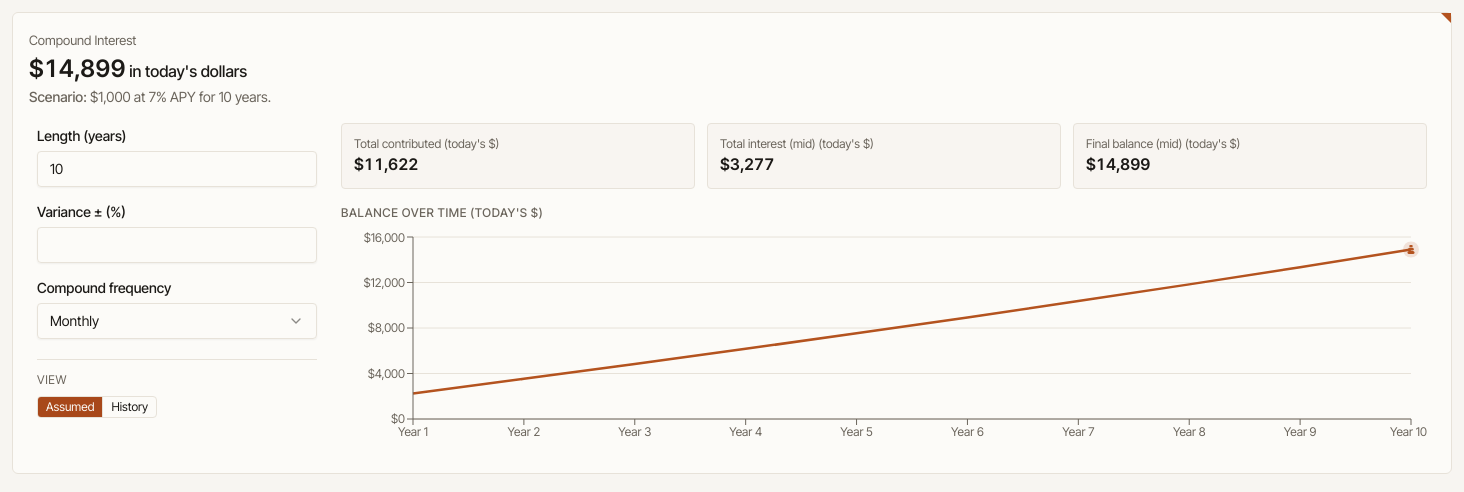
Scenario: CompoundInterestCard — History view › degradation CH-6: years=155 ⇒ the no-stretch line
This screenshot has width=1464, height=492.
Replace the text in the number field labelled "Length (years)" with "155". click: x=177, y=168
box: [37, 150, 317, 186]
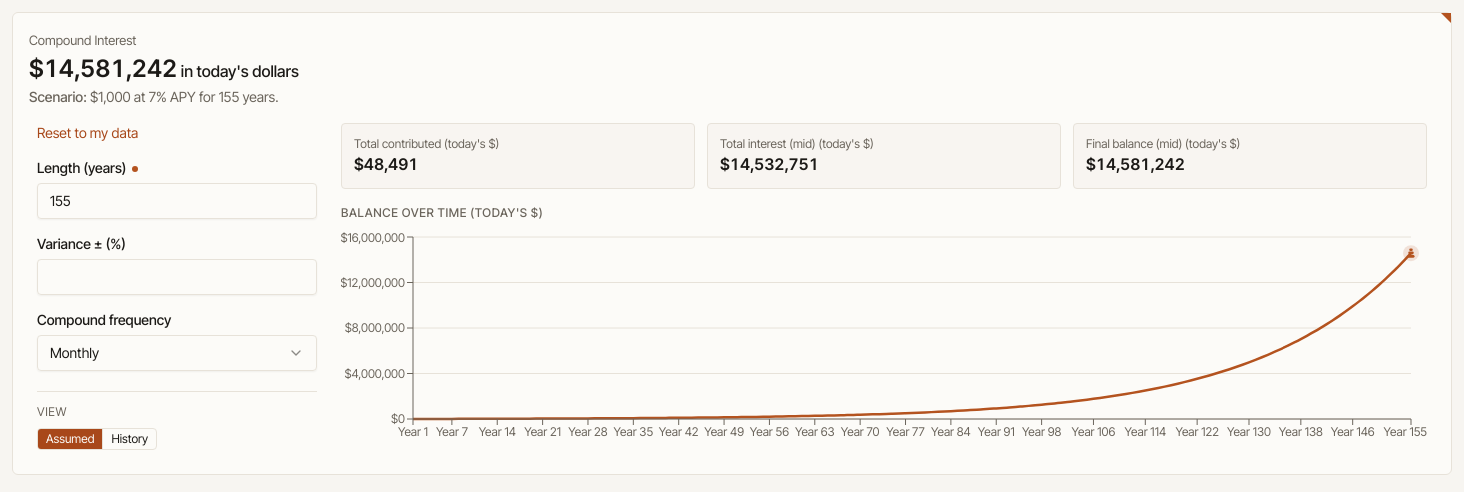
Click the button "History". click: x=129, y=438
box: [102, 428, 156, 448]
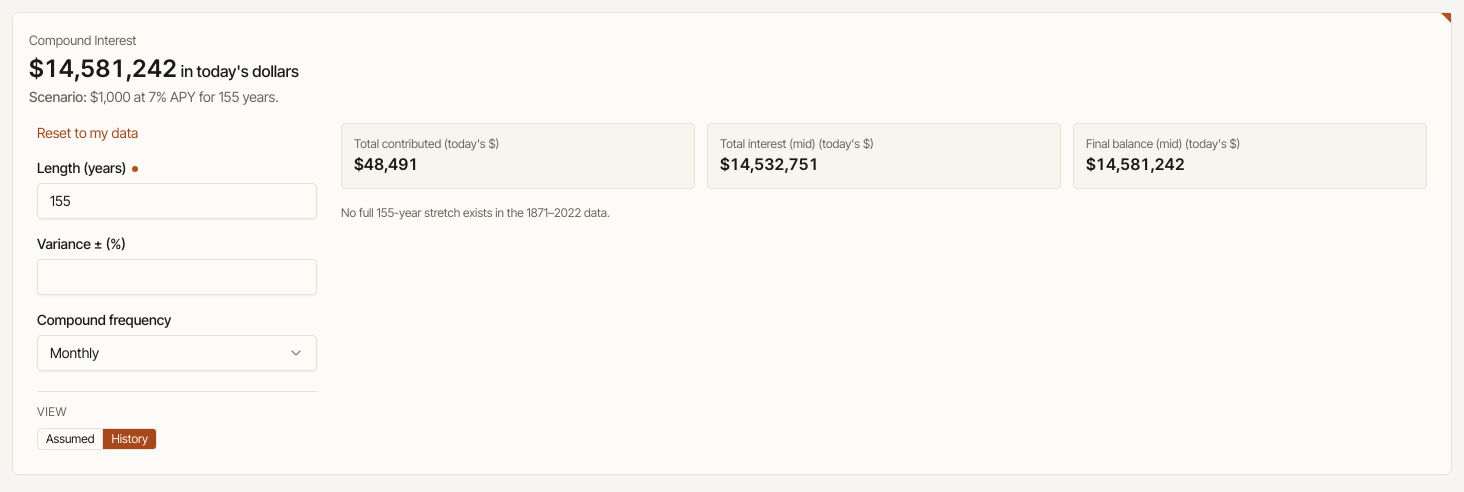
Check: the text with test id "compound-history-degraded" reads "No full 155-year stretch exists in the 1871–2022 data.", box [341, 204, 610, 220]
